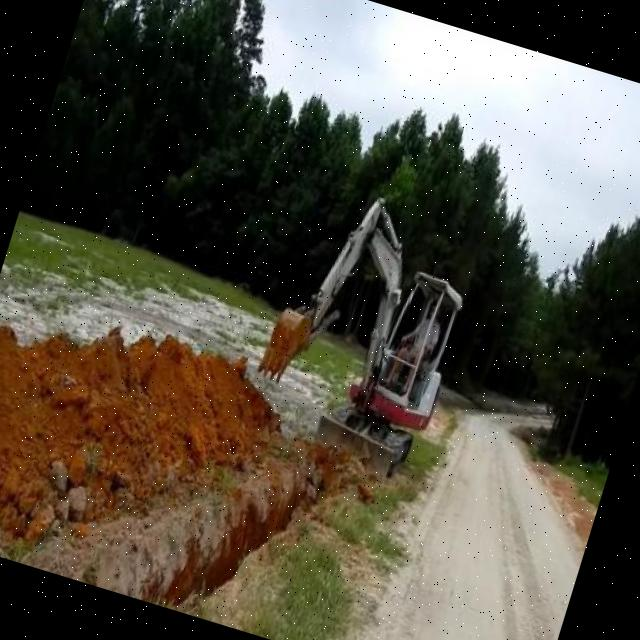Excavator: (236, 176, 488, 488)
